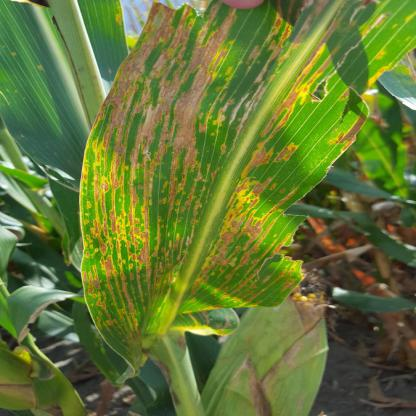Corn leaf blight: (89, 10, 375, 366)
